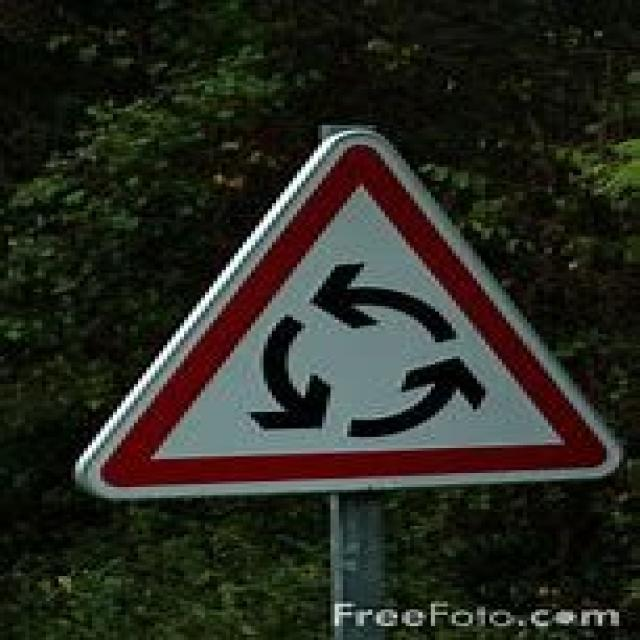roundabout: (80, 130, 614, 484)
